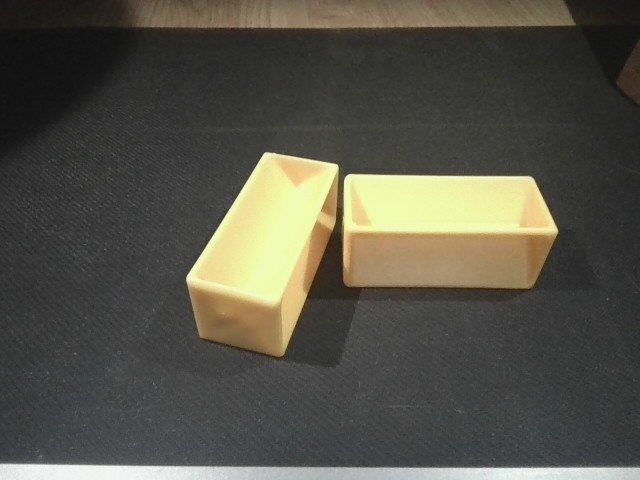YellowSample: (181, 149, 340, 364), (338, 169, 560, 294)
